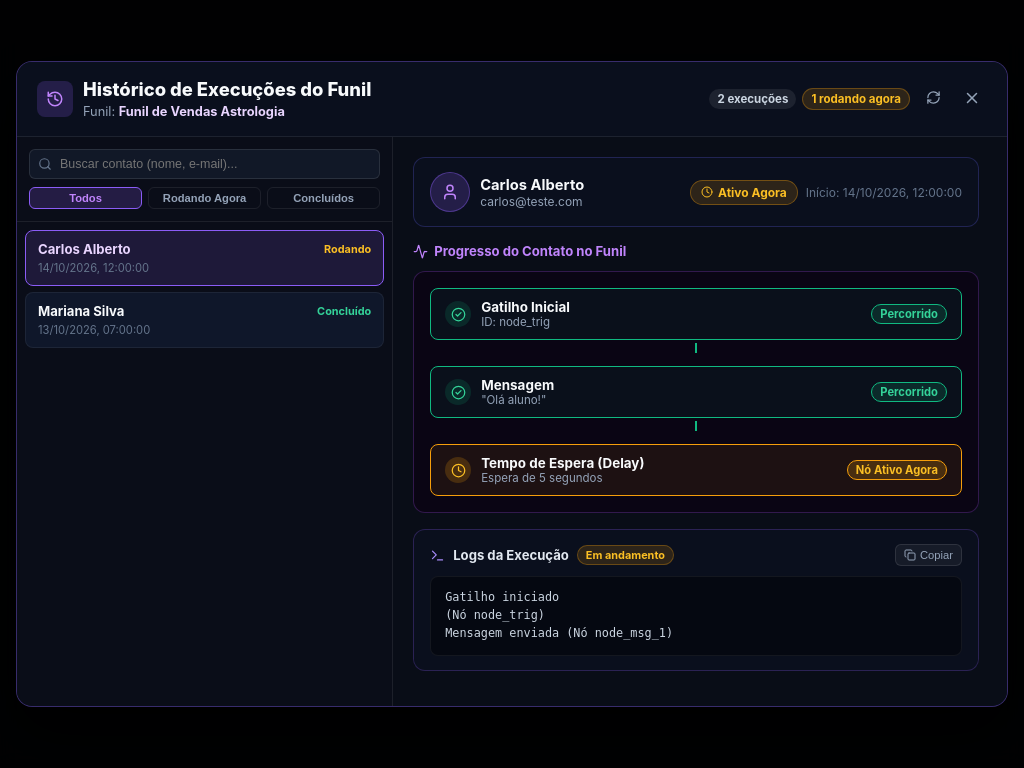
it: FunnelExecutionsHistoryModal Component › permite filtrar contatos por nome ou e-mail na busca
expect the element with test id "execution-item-101" is shown: met, box [25, 230, 384, 286]
Step 1. Type "Mariana" into the field with test id "search-executions-input" → (205, 164), box [29, 149, 380, 179]
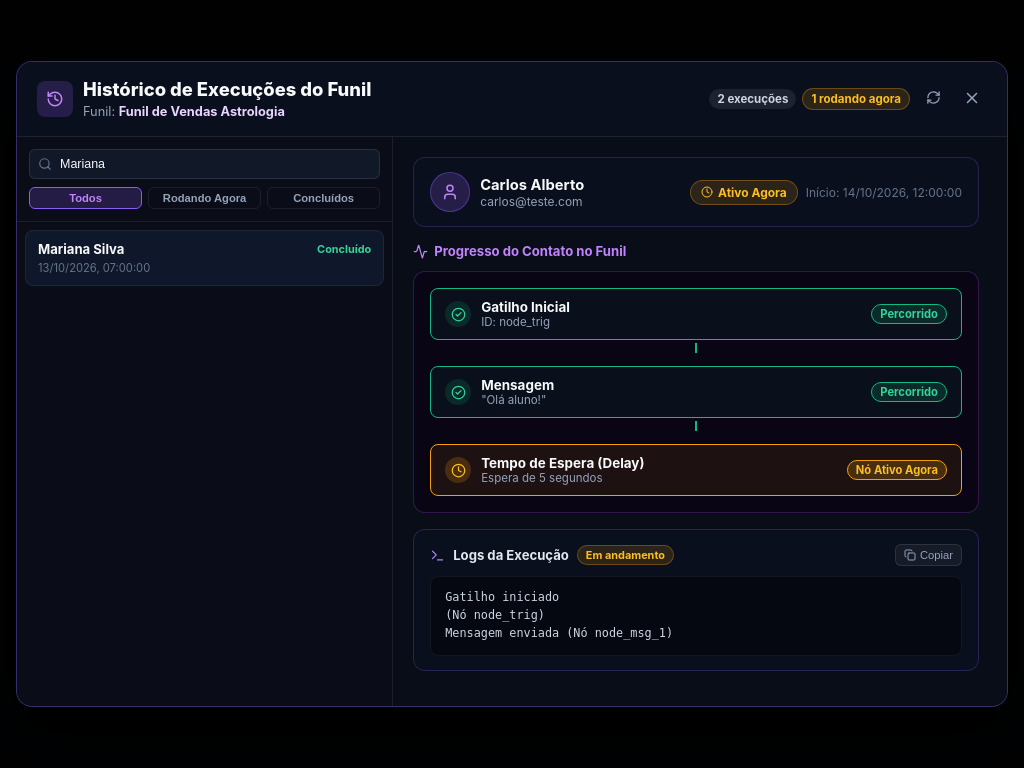
expect the element with test id "execution-item-102" is shown: met, box [25, 230, 384, 286]
expect the element with test id "execution-item-101" is gone: met
